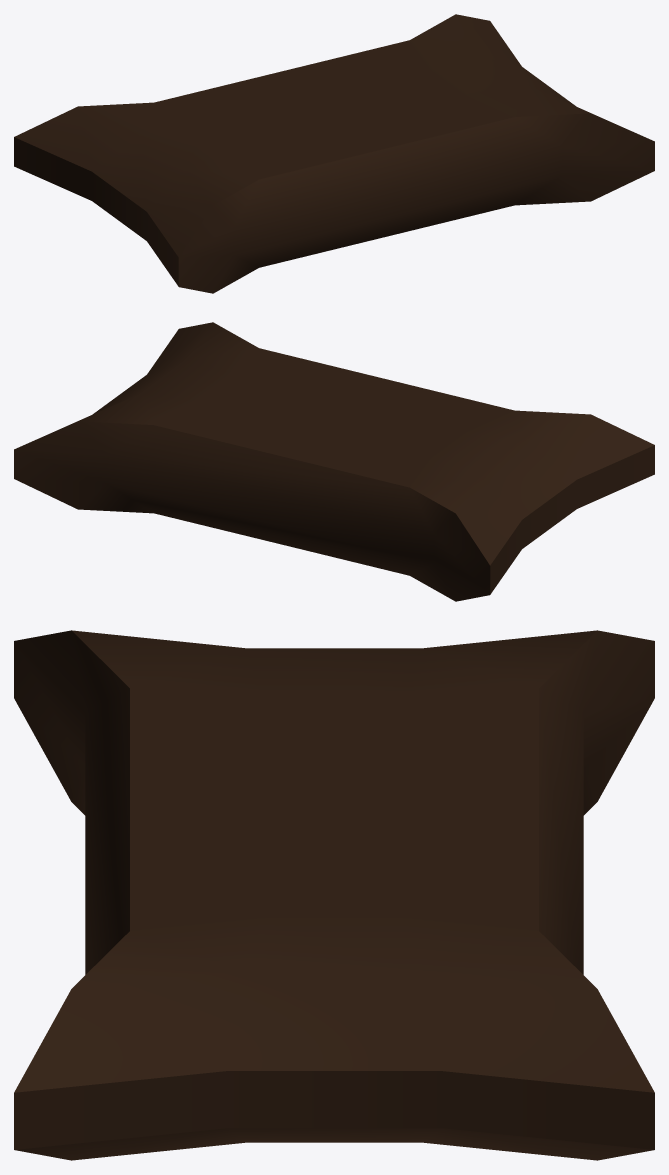
File: MRE-notFood.fbx
The picture shows the model from 3 angles, top to bottom: view 1: azimuth 30°, elevation 25°; view 2: azimuth 150°, elevation 25°; view 3: azimuth 270°, elevation 25°; orthographic projection. The views are drawn at different scales.
Visible parts, largest first — view 1: Box011; view 2: Box011; view 3: Box011.
Boxes of the visible parts, box(x1,y1,x2,y2) form: Box011: box(14, 14, 654, 293); Box011: box(14, 322, 654, 601); Box011: box(14, 630, 654, 1160).
Bounding box in the file's own units: 122 × 21.64 × 73.26.
